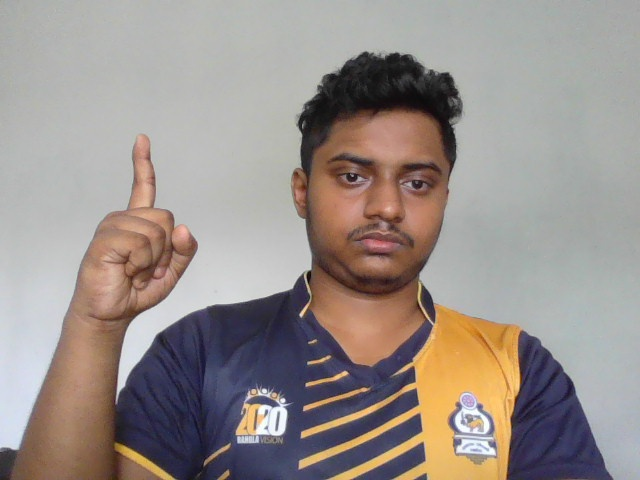Me: (76, 129, 202, 324)
